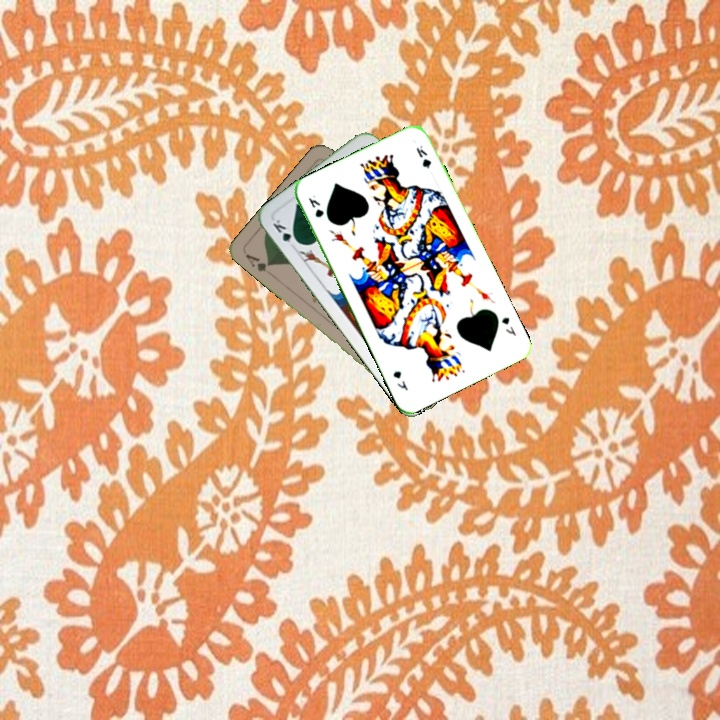GA: (241, 249, 276, 279)
GK: (269, 215, 302, 251), (304, 191, 327, 220), (497, 313, 519, 339)
